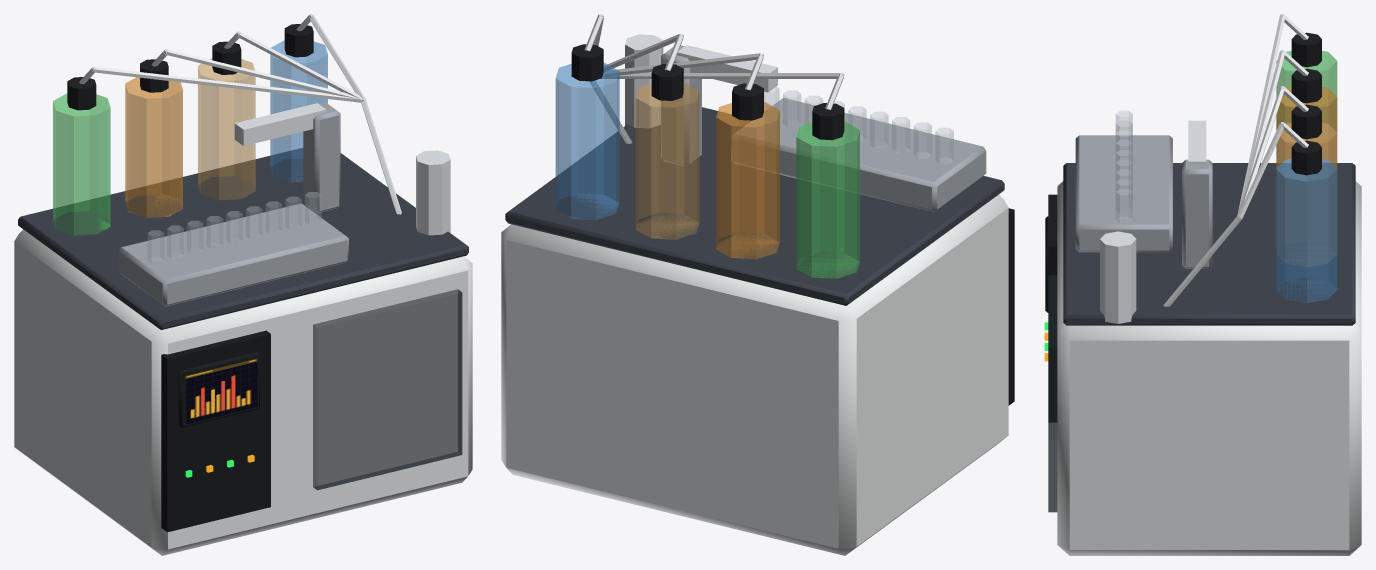
File: analyzer_gas_chromatograph.glb
The picture shows the model from 3 angles, left to right: view 1: azimuth 30°, elevation 25°; view 2: azimuth 150°, elevation 25°; view 3: azimuth 270°, elevation 25°; orthographic projection. The views are drawn at different scales.
Visible parts, largest first — view 1: analyzer_gas_chromatograph; view 2: analyzer_gas_chromatograph; view 3: analyzer_gas_chromatograph.
Part boxes in pixels (box(x1,y1,x2,y2)): analyzer_gas_chromatograph: box(14, 14, 472, 555); analyzer_gas_chromatograph: box(501, 14, 1014, 555); analyzer_gas_chromatograph: box(1044, 14, 1361, 555).
Size of the model in its own units: 0.62 by 0.745 by 0.523.
16 materials, 1 textured.
